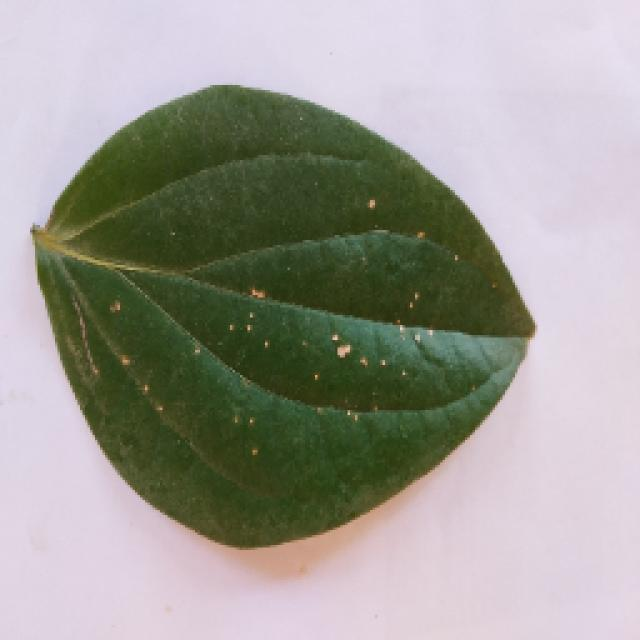pollu-disease: (8, 82, 602, 568)
